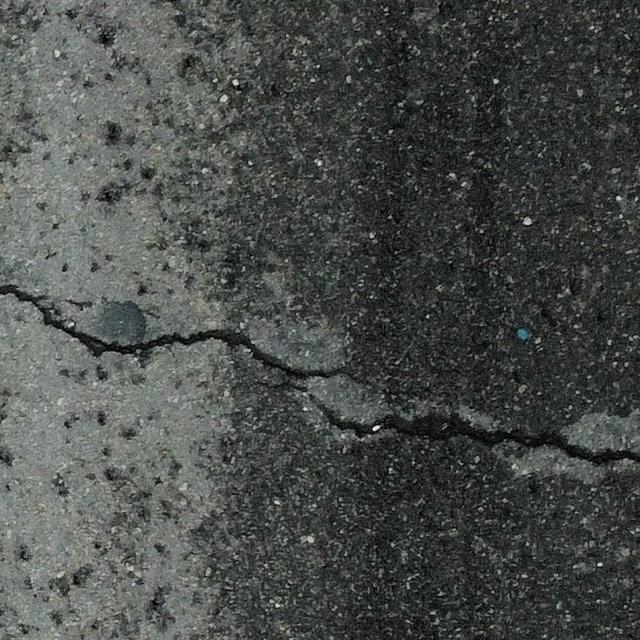TransverseCrack: (1, 284, 352, 378), (262, 383, 640, 466)
